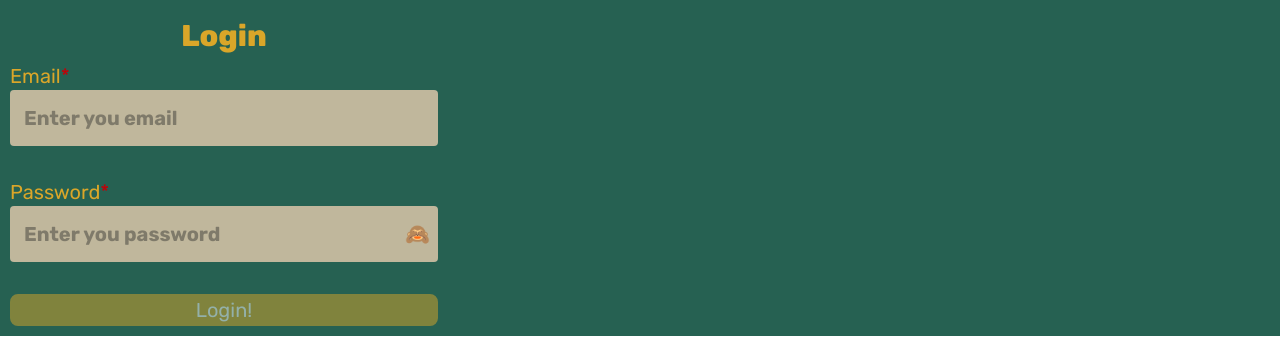
Login Email input › Error: Password not contains at least one digit
Type "dfda" into the password field with placeholder "Enter you password" at x=224, y=234, box [10,206,438,262]
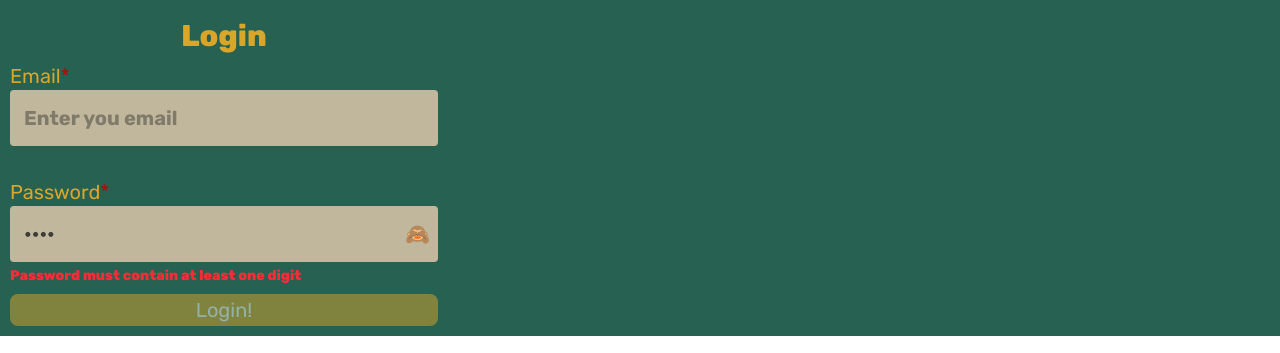
Expected: the text "Password must contain at least one digit" is shown, [10,267,301,284]
